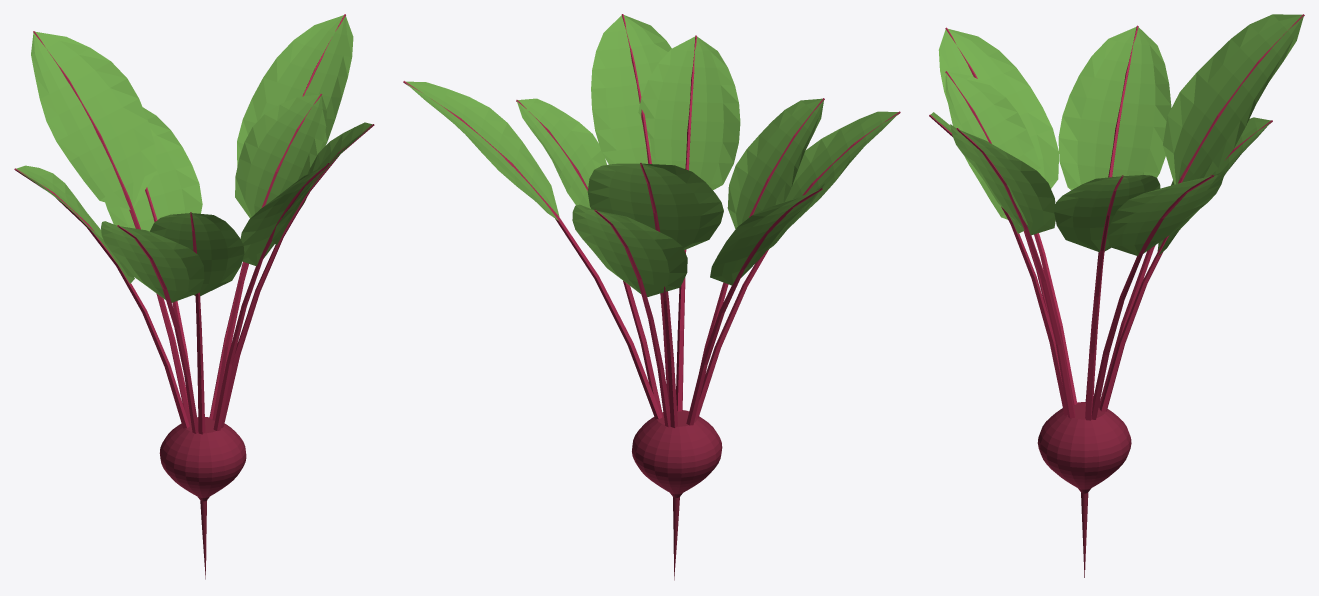
File: beetroot_harvest_v13.glb
The picture shows the model from 3 angles, left to right: view 1: azimuth 30°, elevation 25°; view 2: azimuth 150°, elevation 25°; view 3: azimuth 270°, elevation 25°; orthographic projection. The views are drawn at different scales.
Parts seen in each view (by area): view 1: plant; view 2: plant; view 3: plant.
Part boxes in pixels (x1,y1,x2,y2): plant: [14, 14, 374, 579]; plant: [403, 14, 900, 580]; plant: [929, 14, 1304, 577].
Bounding box in the file's own units: 0.3425 × 0.4406 × 0.2827.
Materials: 1 (1 with a texture image).
